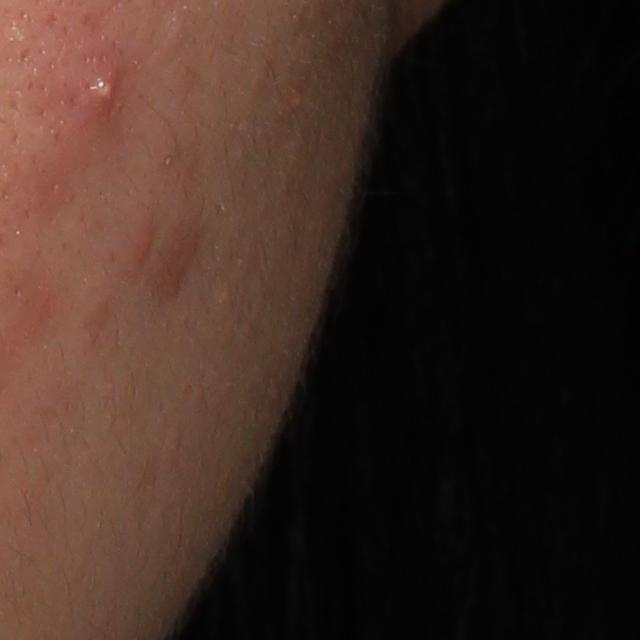papule: (126, 215, 156, 284)
pustule: (82, 68, 126, 113)
